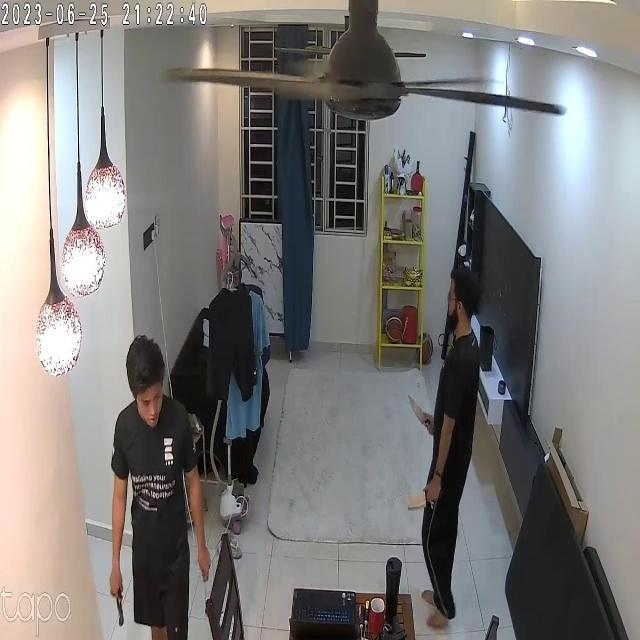Knife: (406, 388, 437, 441), (405, 482, 446, 522)
